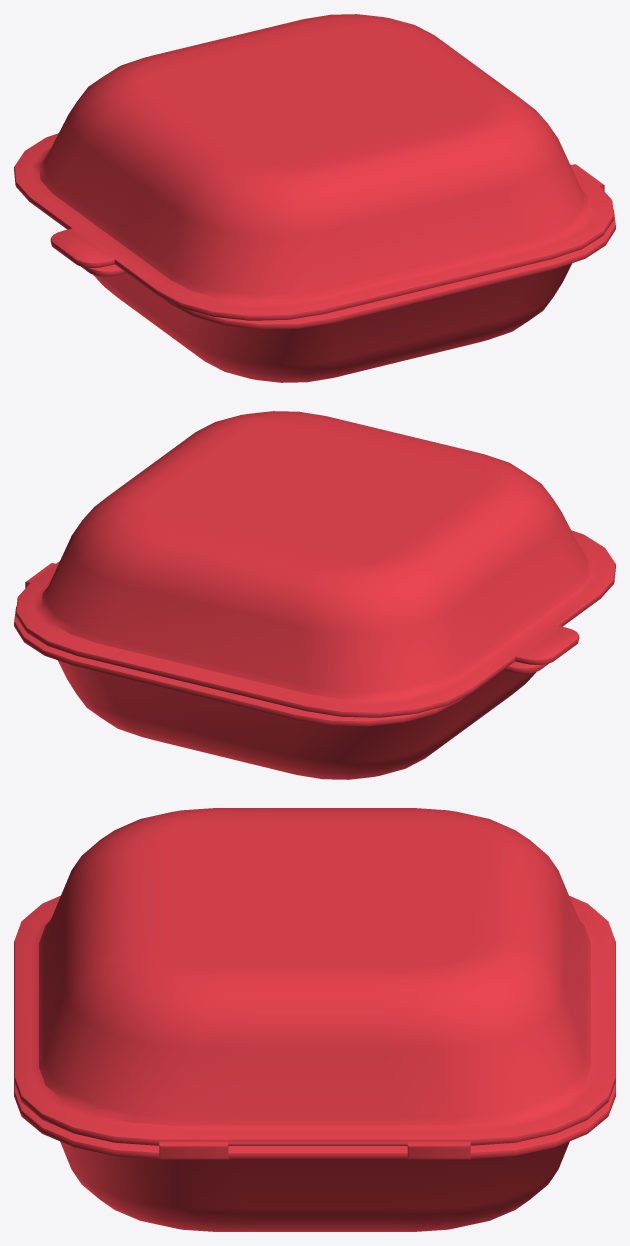
Rendered from ambalaj_kapali.fbx.
3 renders of one model, top to bottom at view 1: azimuth 30°, elevation 25°; view 2: azimuth 150°, elevation 25°; view 3: azimuth 270°, elevation 25°, orthographic. The views are drawn at different scales.
Parts seen in each view (by area): view 1: kap; view 2: kap; view 3: kap.
Boxes of the visible parts, <box> form: kap: <box>14,14,615,382</box>; kap: <box>14,411,615,779</box>; kap: <box>14,808,615,1231</box>.
Size of the model in its own units: 264 by 111 by 238.
